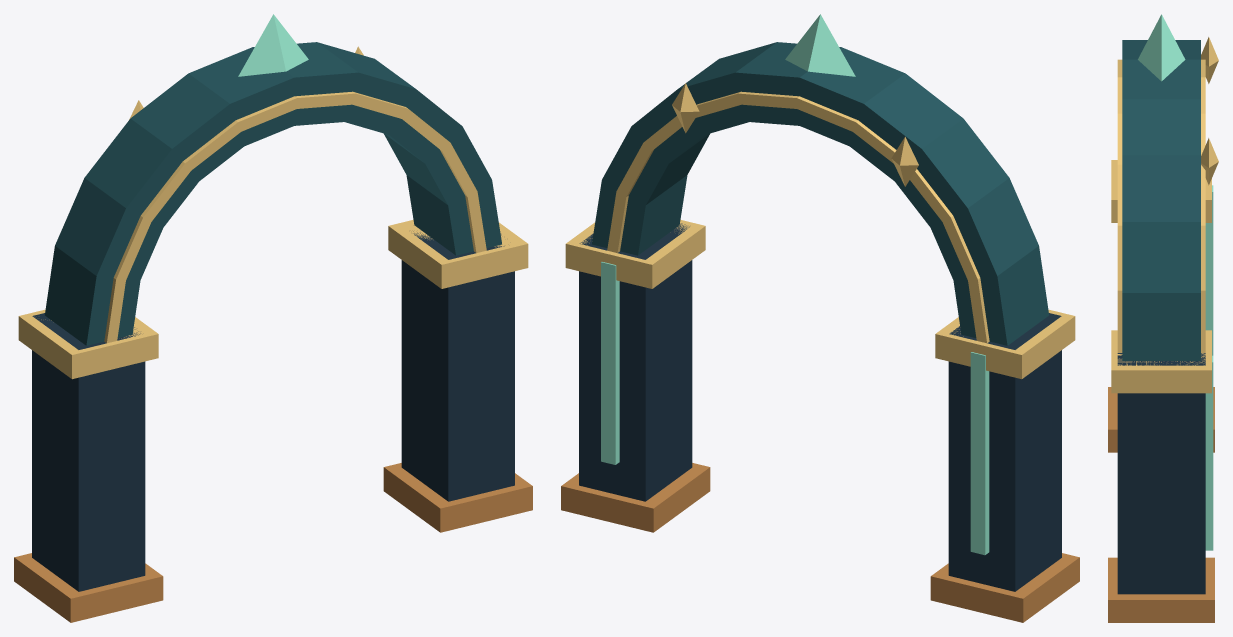
File: ObservatoryArch.obj
3 views of the same model, side by side, from view 1: azimuth 30°, elevation 25°; view 2: azimuth 150°, elevation 25°; view 3: azimuth 270°, elevation 25° (orthographic). The views are drawn at different scales.
Bounding box in the file's own units: 8 × 8.8 × 1.76.
